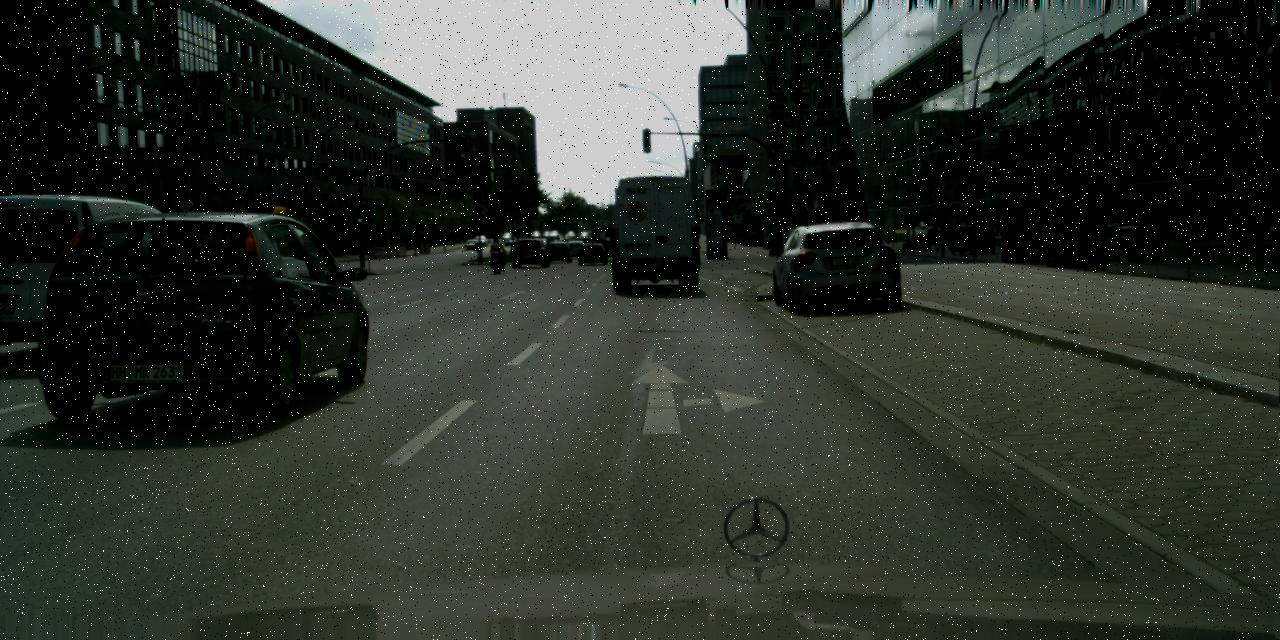ped: (489, 236, 502, 268)
